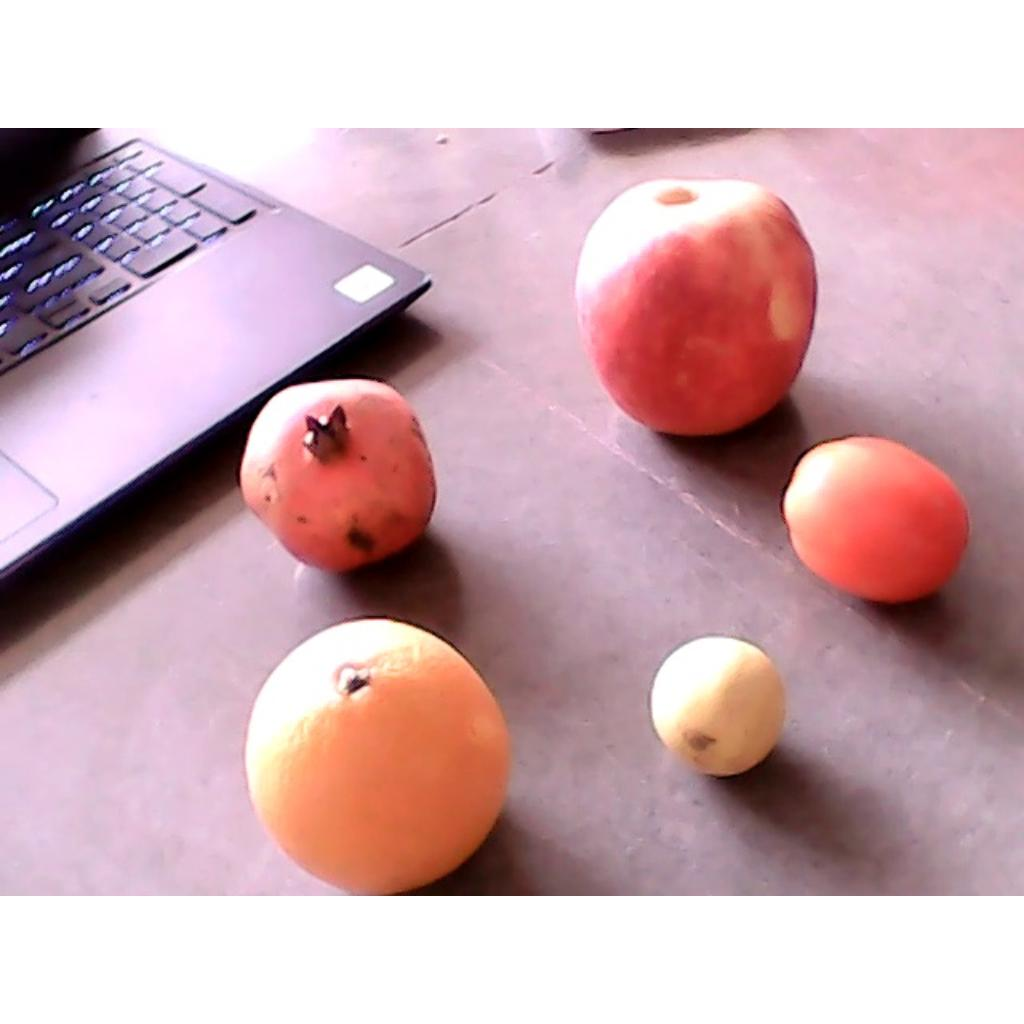apple: (574, 176, 816, 436)
lemon: (652, 636, 789, 775)
orange: (242, 619, 510, 894)
pomegranate: (240, 379, 438, 575)
tomato: (782, 436, 972, 604)
